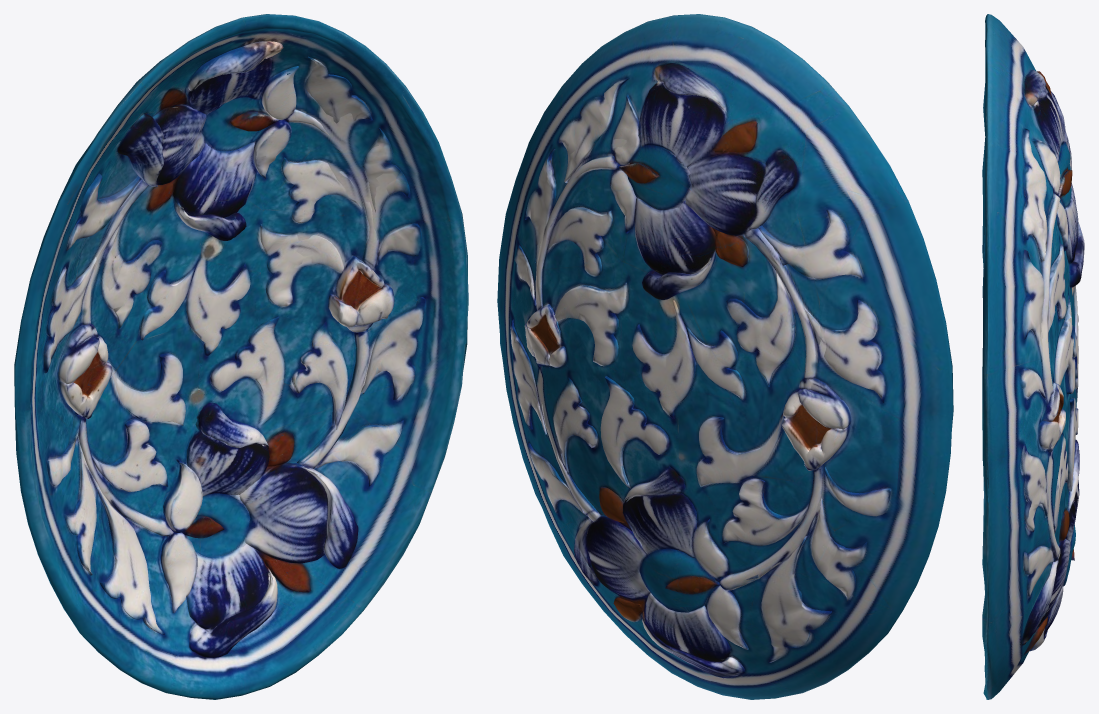
Rendered from blossom-bowl.glb.
3 views of the same model, side by side, from view 1: azimuth 30°, elevation 25°; view 2: azimuth 150°, elevation 25°; view 3: azimuth 270°, elevation 25° (orthographic). The views are drawn at different scales.
Visible parts, largest first — view 1: blossom-bowl; view 2: blossom-bowl; view 3: blossom-bowl.
Part boxes in pixels (x1,y1,x2,y2): blossom-bowl: (14, 14, 468, 699); blossom-bowl: (497, 14, 953, 699); blossom-bowl: (982, 14, 1084, 699).
Size of the model in its own units: 0.2101 by 0.3 by 0.0423.
1 material, 1 textured.
